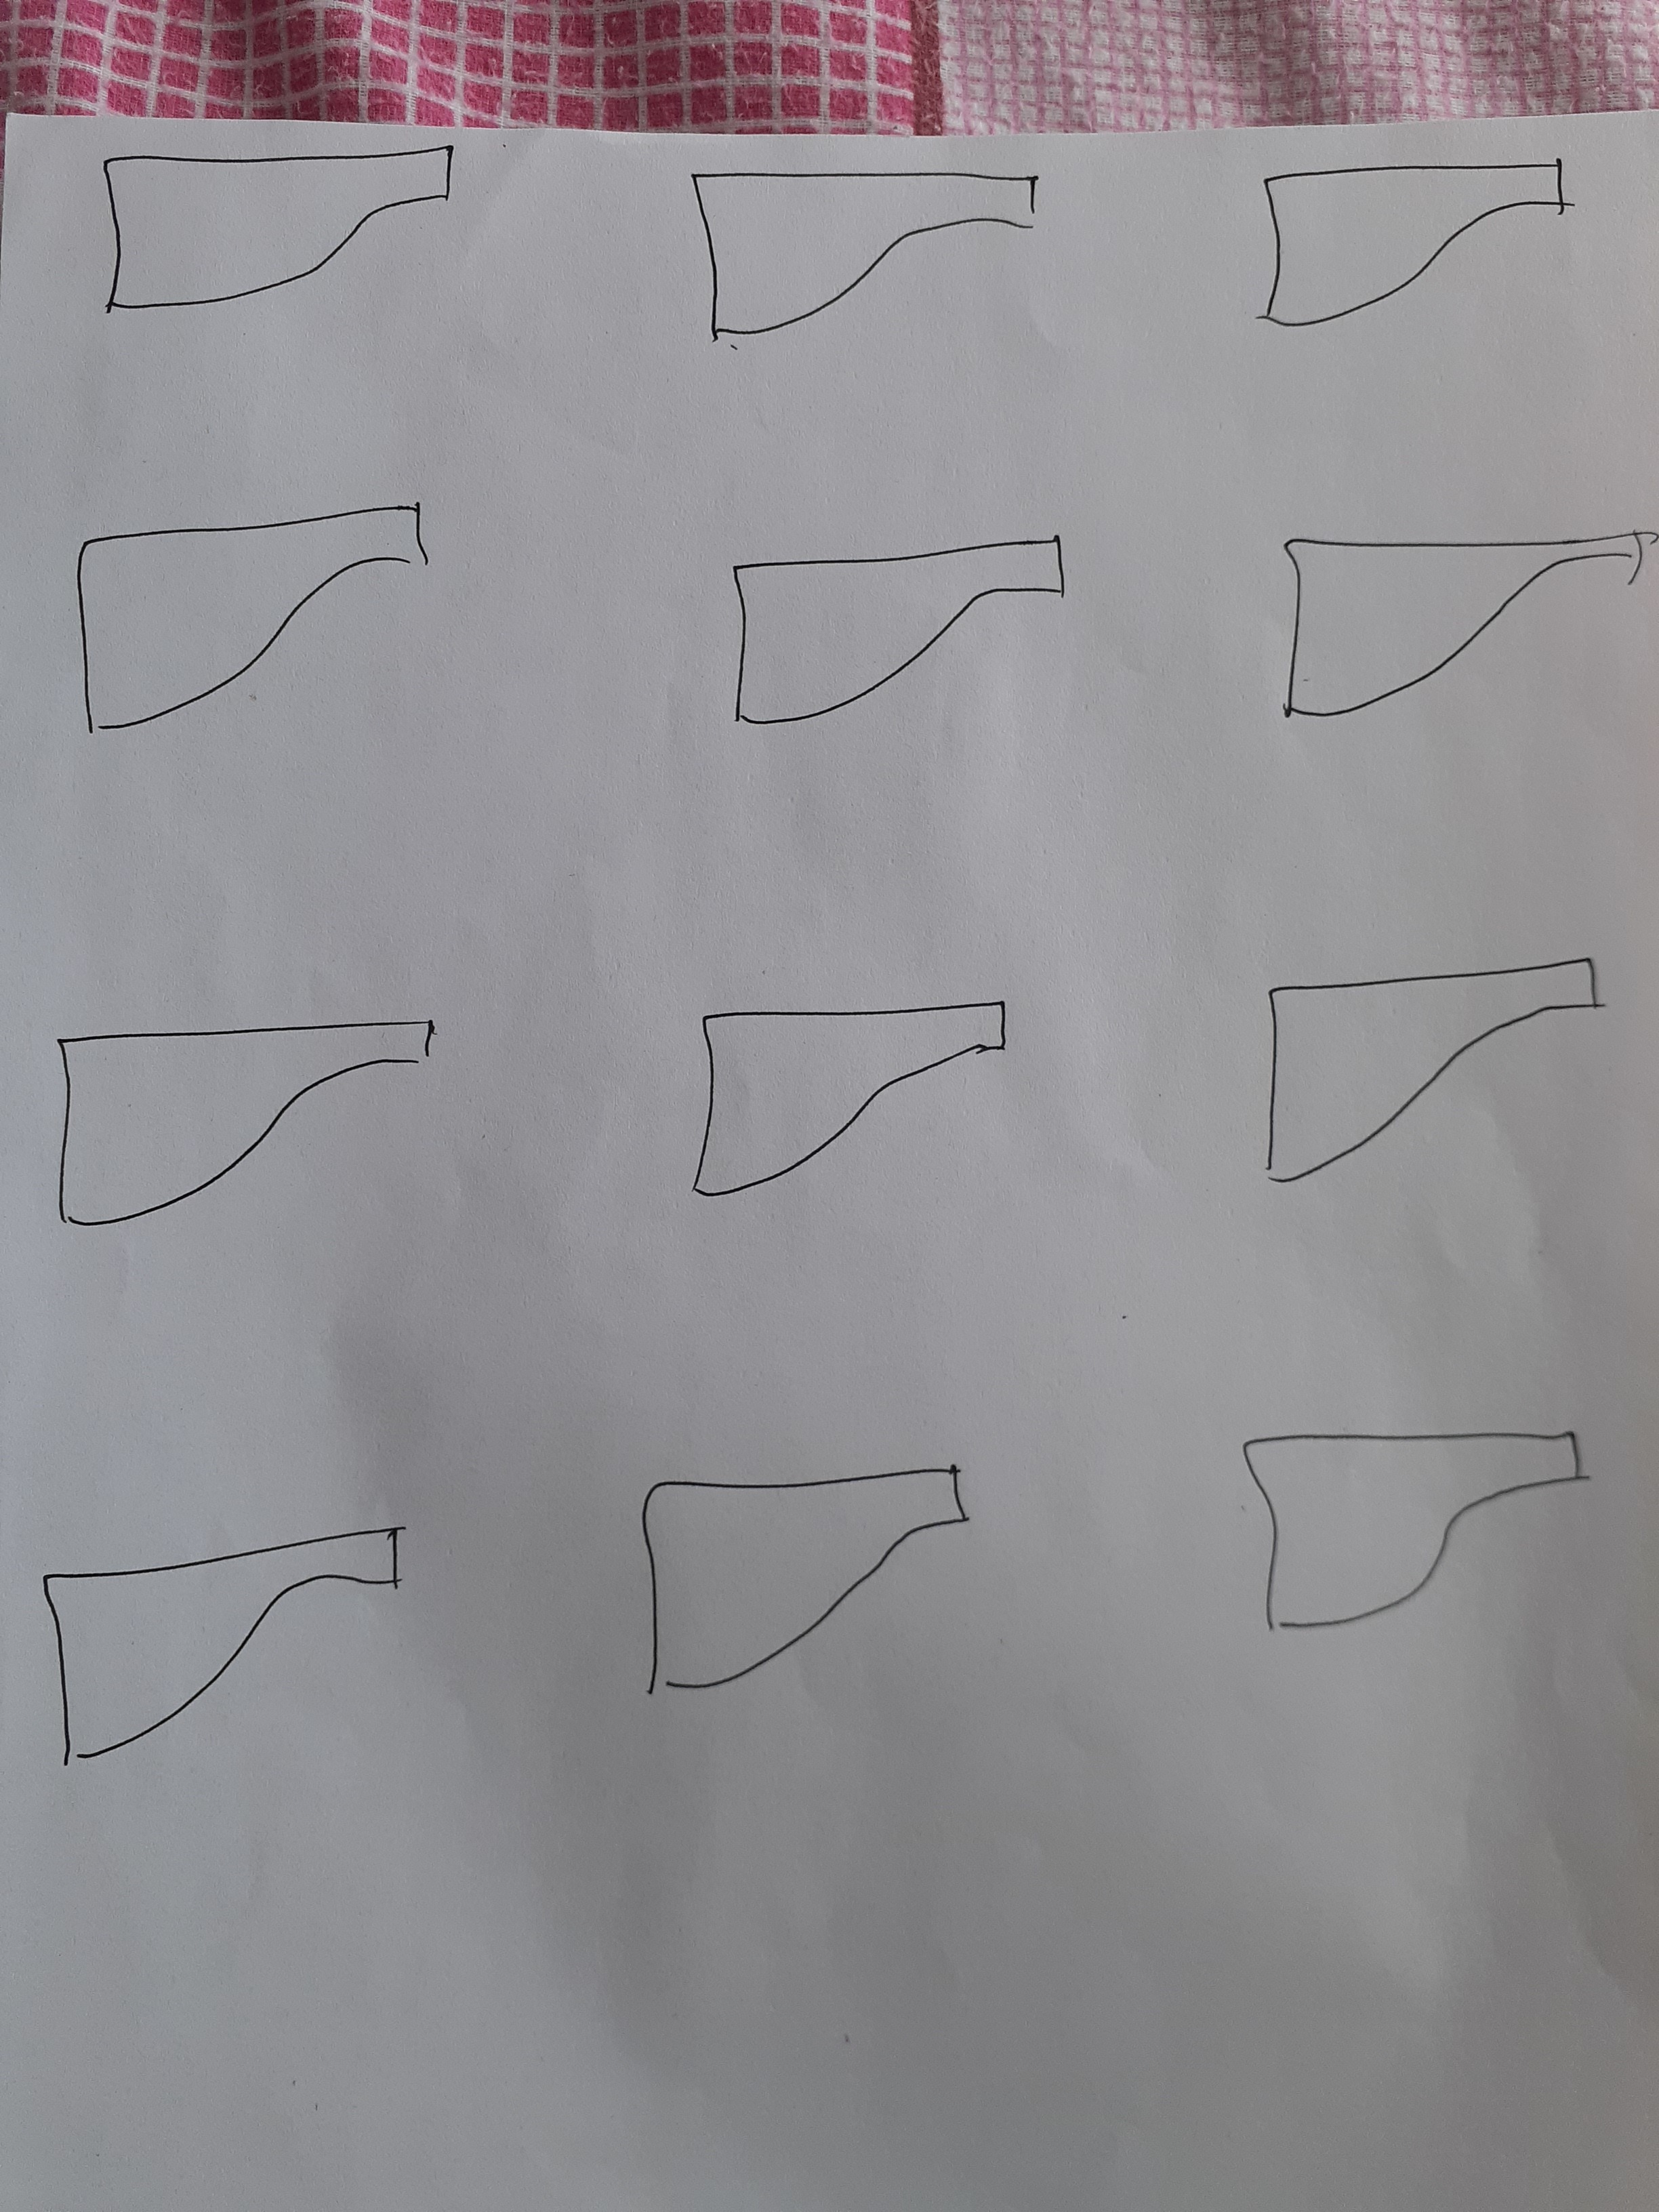print: (598, 1425, 1018, 1754), (1201, 1364, 1621, 1669), (24, 1500, 430, 1784), (1230, 507, 1659, 775), (49, 489, 476, 751), (1230, 934, 1624, 1207), (31, 1008, 479, 1242), (674, 953, 1025, 1231), (1241, 138, 1610, 388), (674, 146, 1089, 364), (85, 134, 479, 336), (732, 523, 1091, 744)
